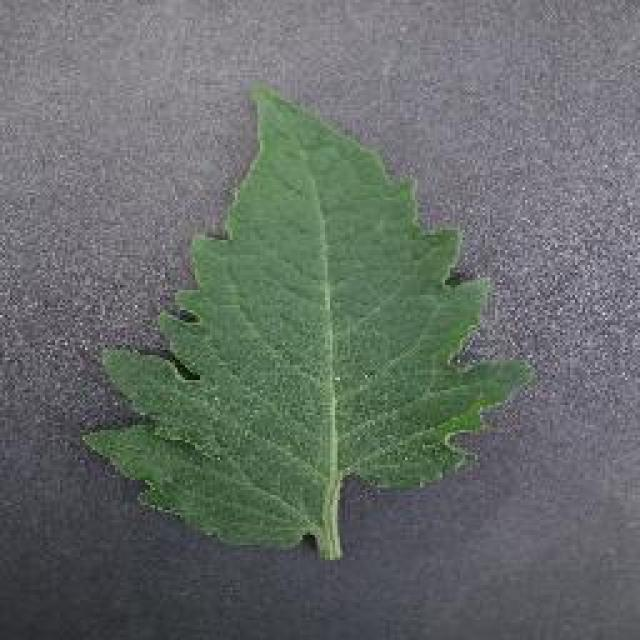Tomato_Healthy: (78, 76, 533, 545)
